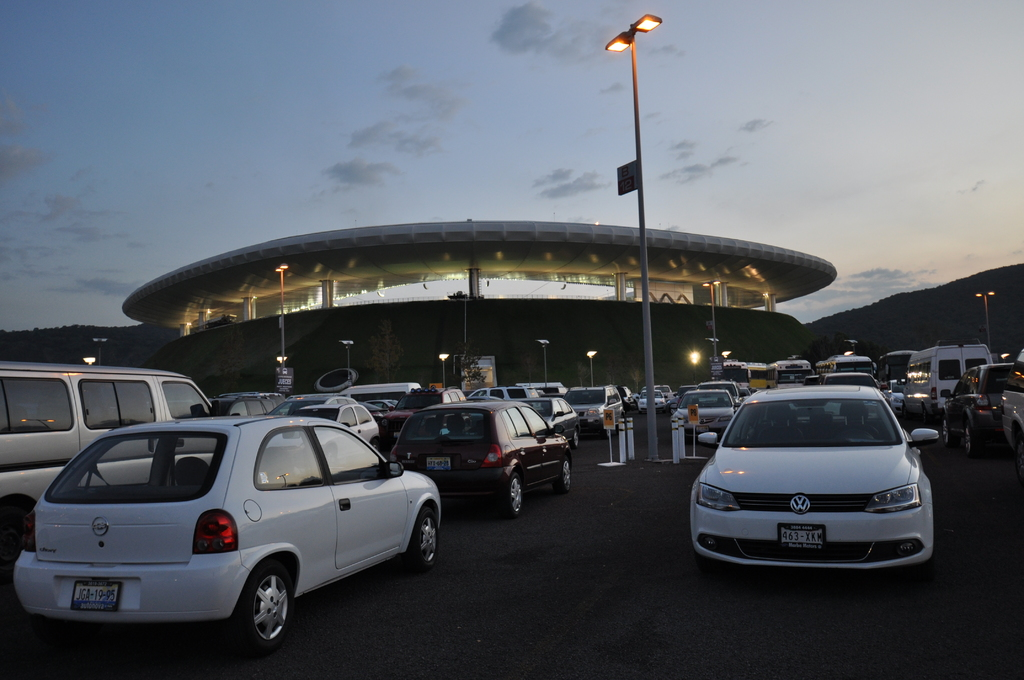Car: (5, 409, 449, 653), (675, 376, 956, 569), (0, 358, 224, 535), (404, 392, 589, 513), (272, 384, 392, 458), (942, 351, 1023, 448), (570, 386, 638, 425), (820, 357, 889, 393), (670, 396, 743, 429), (630, 379, 684, 414), (341, 383, 421, 405), (764, 359, 834, 375), (700, 377, 739, 400)
